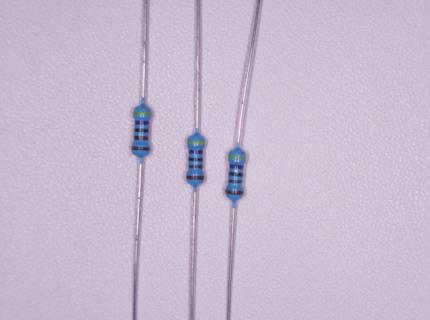Black band: (134, 128, 149, 133), (229, 172, 243, 177), (189, 158, 202, 162)
Brown band: (186, 175, 204, 180), (226, 190, 243, 195), (131, 147, 150, 151), (134, 136, 149, 141), (189, 165, 203, 169), (229, 179, 242, 183)
Violet band: (135, 121, 149, 125), (189, 150, 203, 154), (230, 165, 243, 169)
Yellow band: (187, 140, 205, 144), (134, 111, 151, 115), (229, 155, 245, 159)
